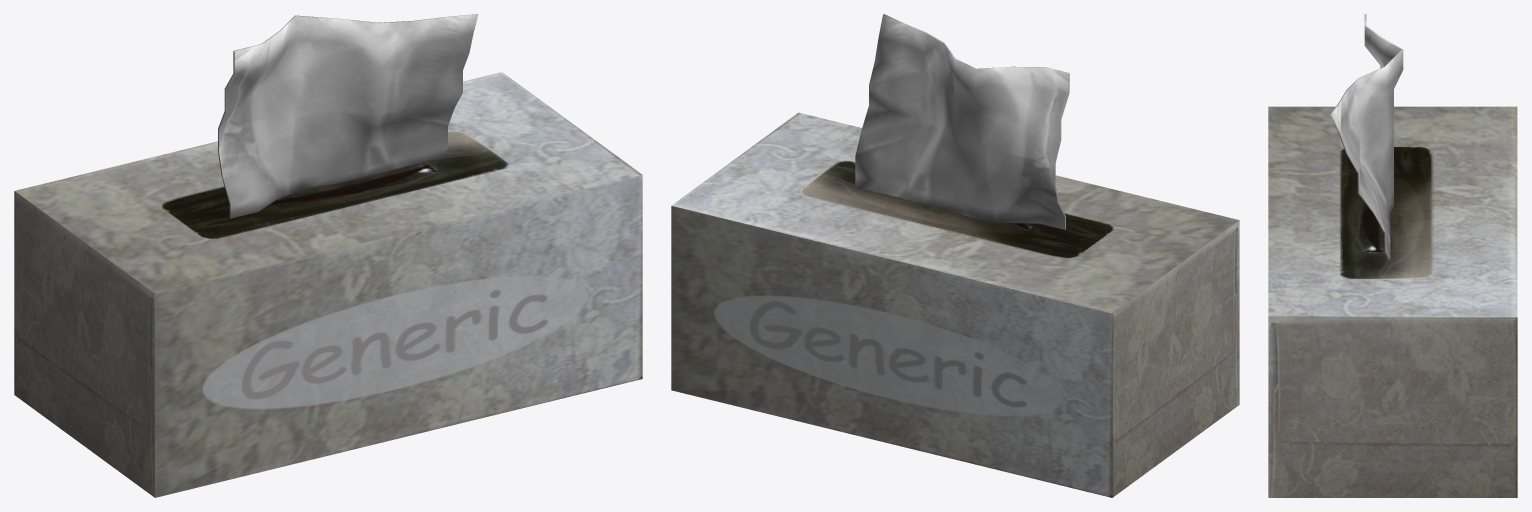
File: Tissue Box_lod1.fbx
3 views of the same model, side by side, from view 1: azimuth 30°, elevation 25°; view 2: azimuth 150°, elevation 25°; view 3: azimuth 270°, elevation 25° (orthographic). The views are drawn at different scales.
Parts seen in each view (by area): view 1: Tissue_Box; view 2: Tissue_Box; view 3: Tissue_Box.
Boxes of the visible parts, x1=… form: Tissue_Box: x1=14, y1=14, x2=642, y2=497; Tissue_Box: x1=671, y1=14, x2=1239, y2=497; Tissue_Box: x1=1268, y1=14, x2=1517, y2=497.
Size of the model in its own units: 5 by 3.66 by 2.5.
